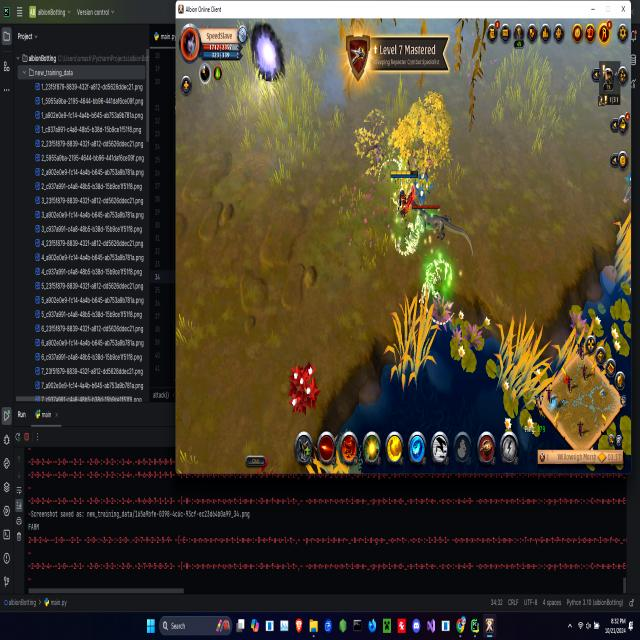hide: (285, 353, 322, 423), (410, 166, 435, 208)
ore: (408, 200, 482, 263)
red: (390, 163, 421, 228)
